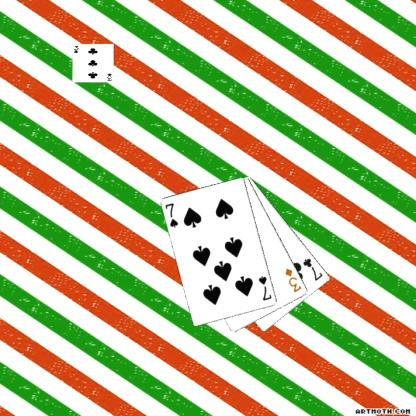3D: (282, 266, 302, 294)
7C: (300, 256, 324, 283)
7S: (162, 200, 180, 229), (256, 274, 273, 302)
